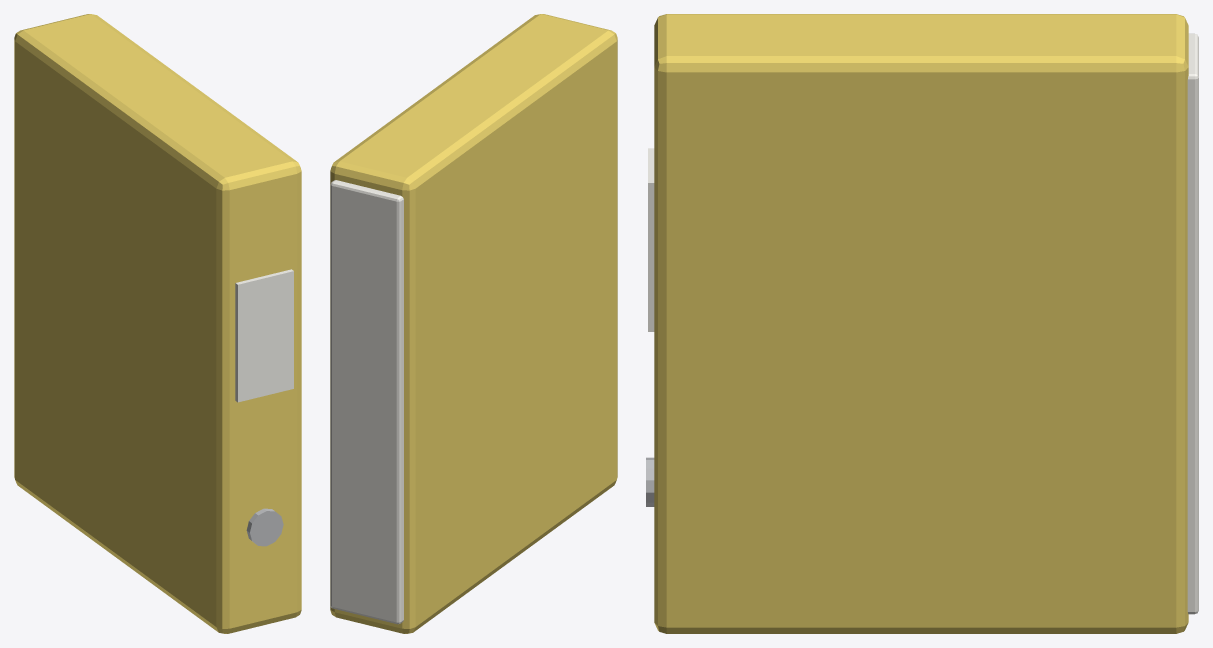
The model's file is binder_yellow.fbx.
3 renders of one model, left to right at view 1: azimuth 30°, elevation 25°; view 2: azimuth 150°, elevation 25°; view 3: azimuth 270°, elevation 25°, orthographic. The views are drawn at different scales.
Parts seen in each view (by area): view 1: binder_yellow; view 2: binder_yellow; view 3: binder_yellow.
Part boxes in pixels (x1,y1,x2,y2): binder_yellow: [14, 14, 301, 633]; binder_yellow: [330, 14, 617, 633]; binder_yellow: [646, 14, 1198, 633].
Bounding box in the file's own units: 0.06 × 0.31 × 0.269.
